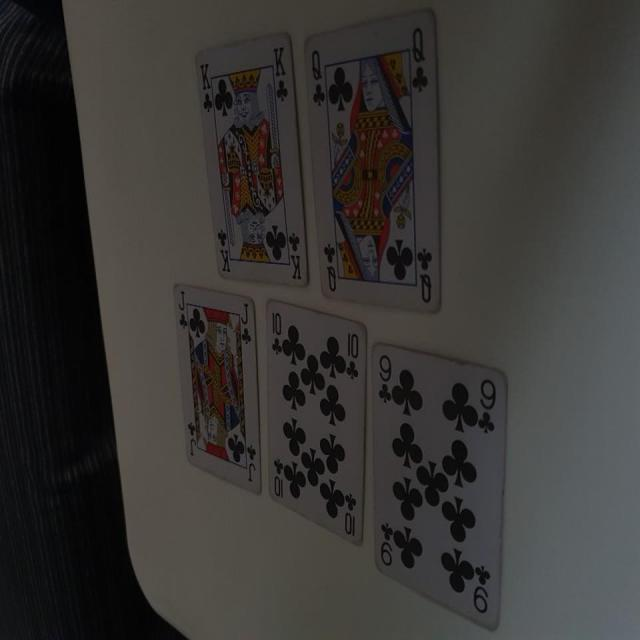10 of clubs: (262, 302, 366, 548)
9 of clubs: (368, 345, 510, 632)
jack of clubs: (171, 279, 264, 495)
king of clubs: (192, 33, 310, 287)
queen of clubs: (302, 10, 442, 314)
